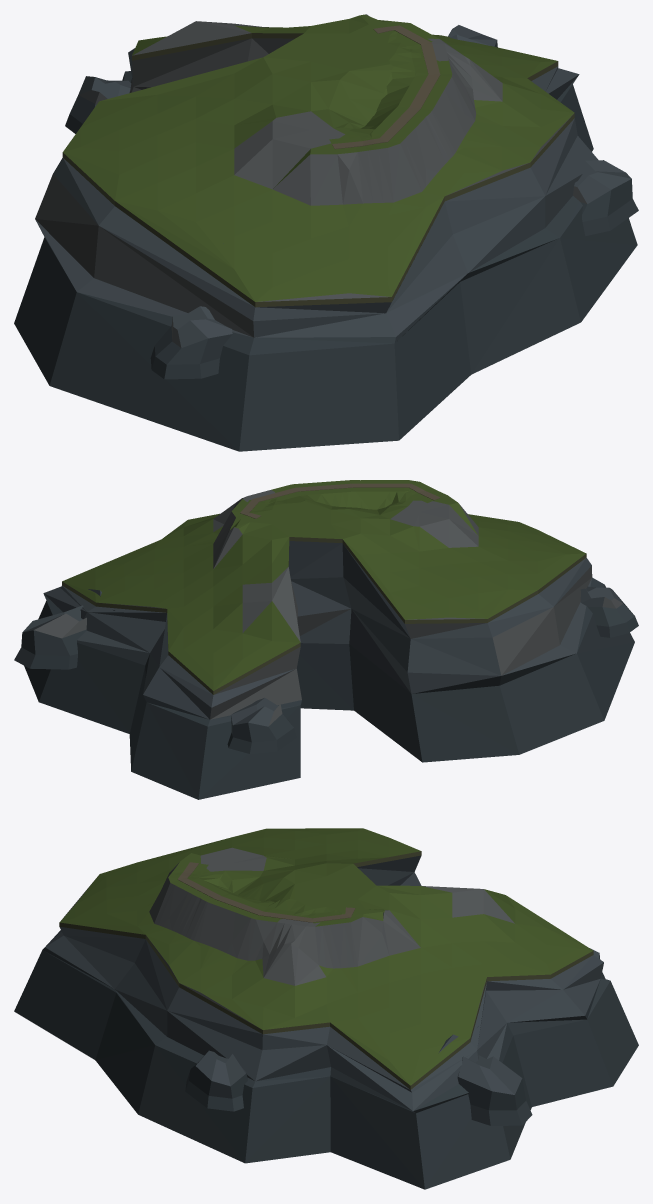
File: island_c.glb
3 renders of one model, top to bottom at view 1: azimuth 30°, elevation 25°; view 2: azimuth 150°, elevation 25°; view 3: azimuth 270°, elevation 25°, orthographic. The views are drawn at different scales.
Visible parts, largest first — view 1: island_c_Coast blue grey bedrock, island_c_Coast short olive grass, island_c_Coast weathered stone footpath; view 2: island_c_Coast blue grey bedrock, island_c_Coast short olive grass, island_c_Coast weathered stone footpath; view 3: island_c_Coast blue grey bedrock, island_c_Coast short olive grass, island_c_Coast weathered stone footpath.
Part boxes in pixels (x1,y1,x2,y2): island_c_Coast blue grey bedrock: [14, 25, 638, 451]; island_c_Coast short olive grass: [62, 14, 574, 307]; island_c_Coast weathered stone footpath: [332, 25, 440, 149]; island_c_Coast blue grey bedrock: [14, 541, 638, 799]; island_c_Coast short olive grass: [62, 480, 586, 694]; island_c_Coast weathered stone footpath: [240, 483, 440, 518]; island_c_Coast blue grey bedrock: [14, 855, 638, 1189]; island_c_Coast short olive grass: [59, 828, 593, 1089]; island_c_Coast weathered stone footpath: [177, 862, 355, 922].
Bounding box in the file's own units: 85.62 × 27.03 × 86.72.
